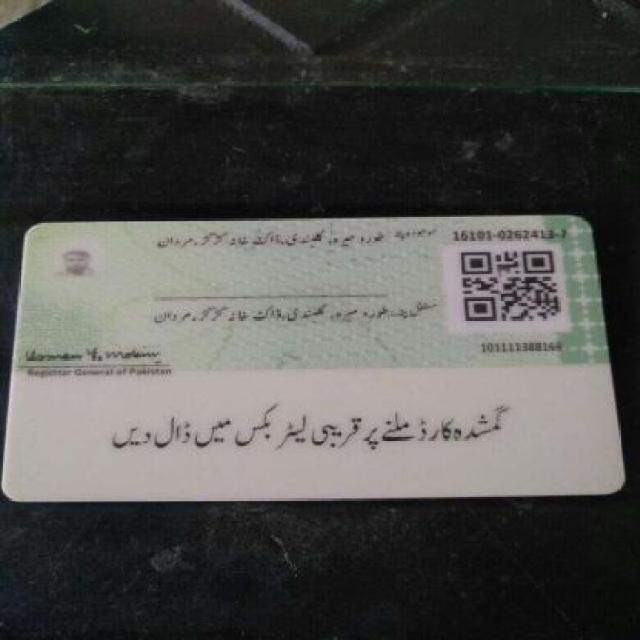Back: (8, 212, 626, 500)
